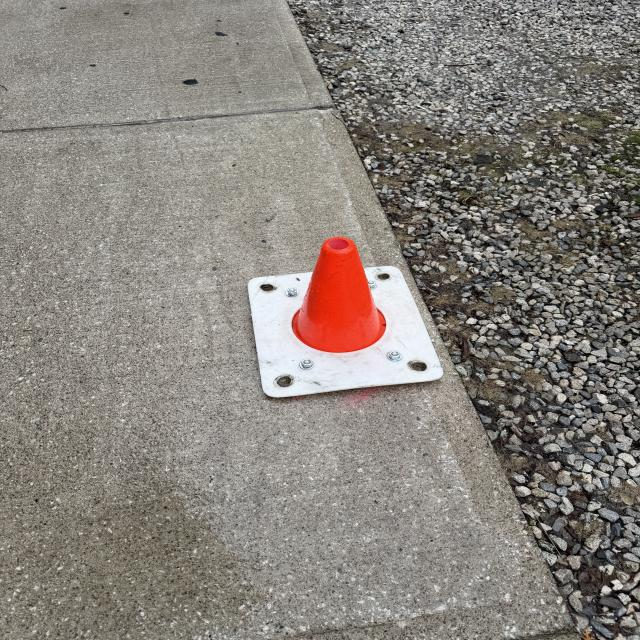Traffic Cone: (246, 238, 445, 398)
